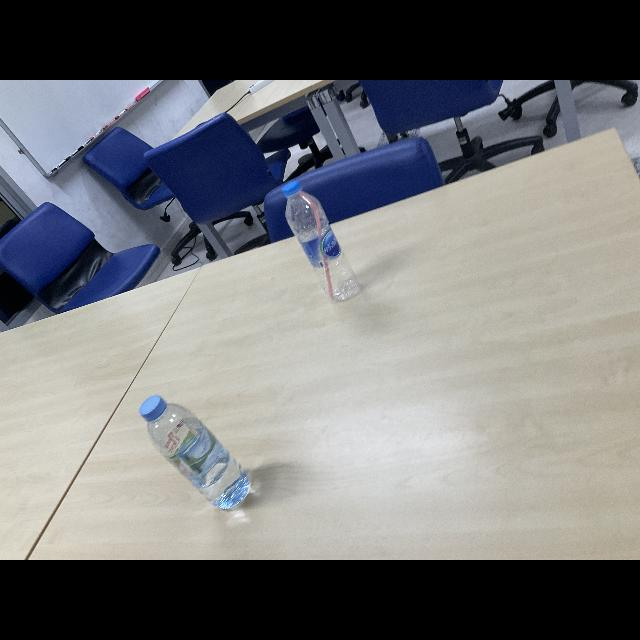plastic_bottle: (140, 393, 252, 511), (281, 180, 361, 304)
plastic_bottle_cap: (138, 396, 168, 422), (282, 181, 302, 197)
straw: (294, 191, 336, 303)
